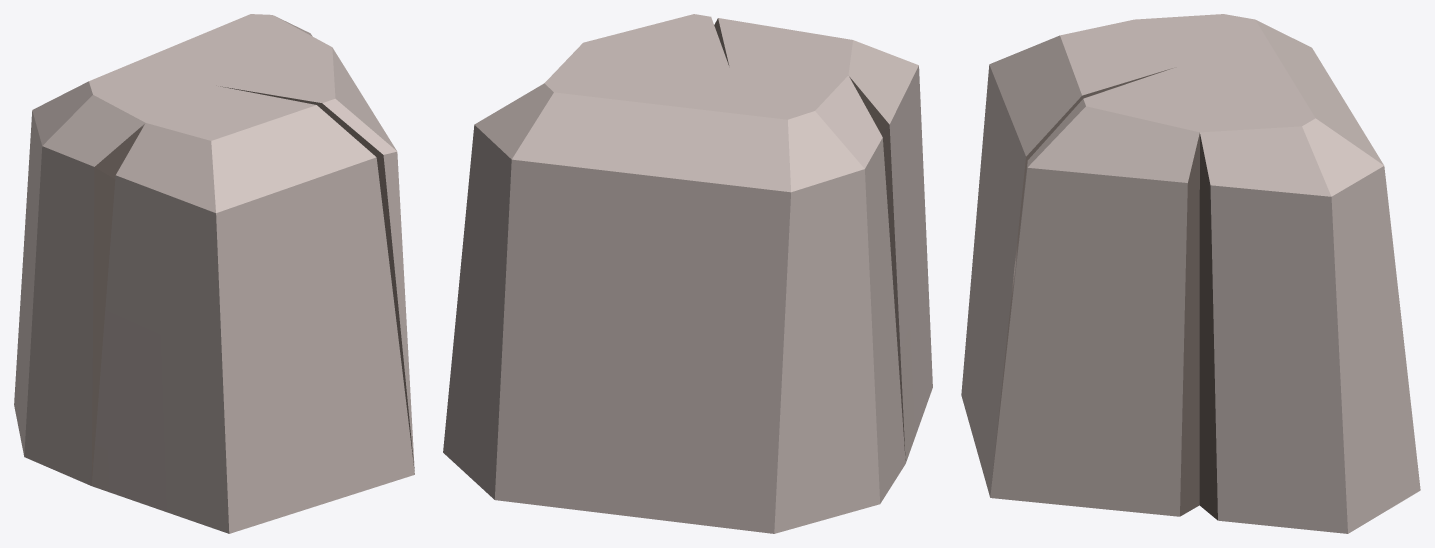
The model's file is rocks_1.fbx.
3 renders of one model, left to right at view 1: azimuth 30°, elevation 25°; view 2: azimuth 150°, elevation 25°; view 3: azimuth 270°, elevation 25°, orthographic. The views are drawn at different scales.
Visible parts, largest first — view 1: 1; view 2: 1; view 3: 1.
Boxes of the visible parts, x1,y1,x2,y2 form: 1: [14, 14, 414, 533]; 1: [443, 14, 932, 533]; 1: [961, 14, 1420, 533].
Bounding box in the file's own units: 138 × 131 × 146.
1 material, 1 textured.
